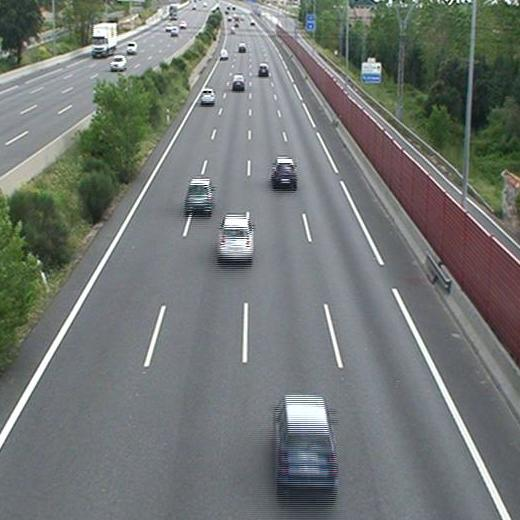car: (276, 397, 337, 485), (217, 216, 253, 259), (185, 179, 213, 210), (271, 159, 295, 185), (200, 90, 215, 103), (232, 74, 244, 89), (258, 63, 269, 76), (219, 50, 229, 59), (238, 45, 245, 51)
